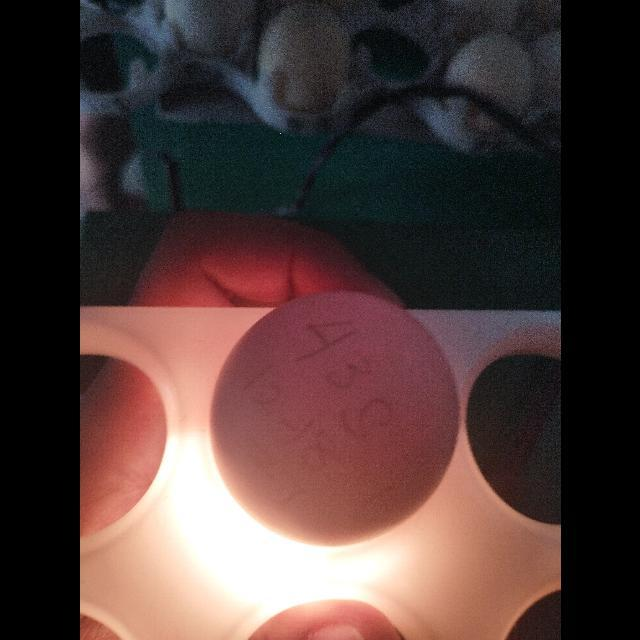Fertile: (206, 286, 464, 552)
